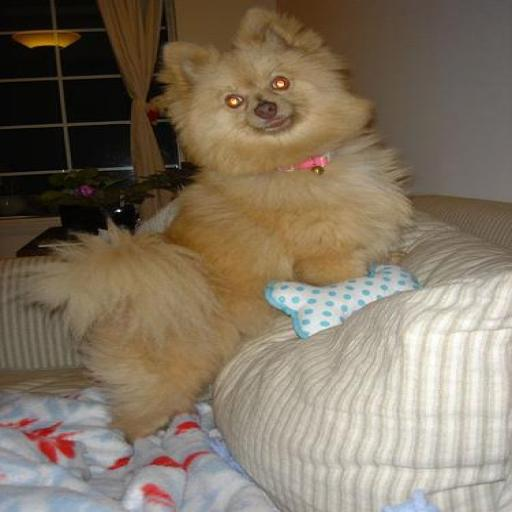dog_face: (149, 13, 341, 154)
